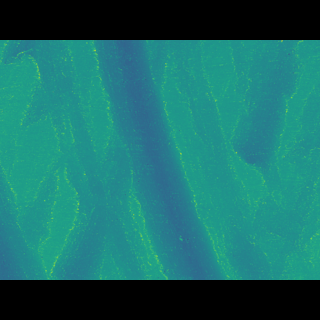Loch: (82, 70, 231, 250), (0, 166, 150, 249), (225, 69, 319, 169)
